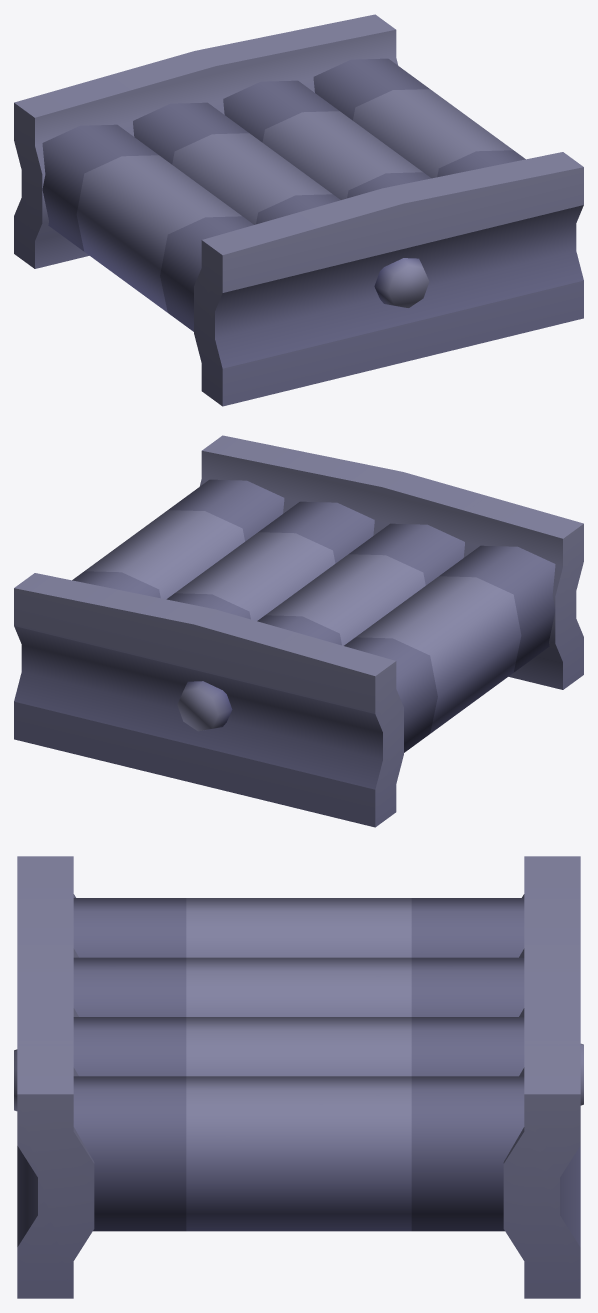
The model's file is conveyor-bars-stripe-high.glb.
The picture shows the model from 3 angles, top to bottom: view 1: azimuth 30°, elevation 25°; view 2: azimuth 150°, elevation 25°; view 3: azimuth 270°, elevation 25°; orthographic projection. The views are drawn at different scales.
Visible parts, largest first — view 1: conveyor-bars-stripe-high; view 2: conveyor-bars-stripe-high; view 3: conveyor-bars-stripe-high.
Part boxes in pixels (bbox=[...]): conveyor-bars-stripe-high: bbox=[14, 14, 583, 406]; conveyor-bars-stripe-high: bbox=[14, 435, 583, 827]; conveyor-bars-stripe-high: bbox=[14, 856, 583, 1298].
Size of the model in its own units: 1 by 0.42 by 1.01.
